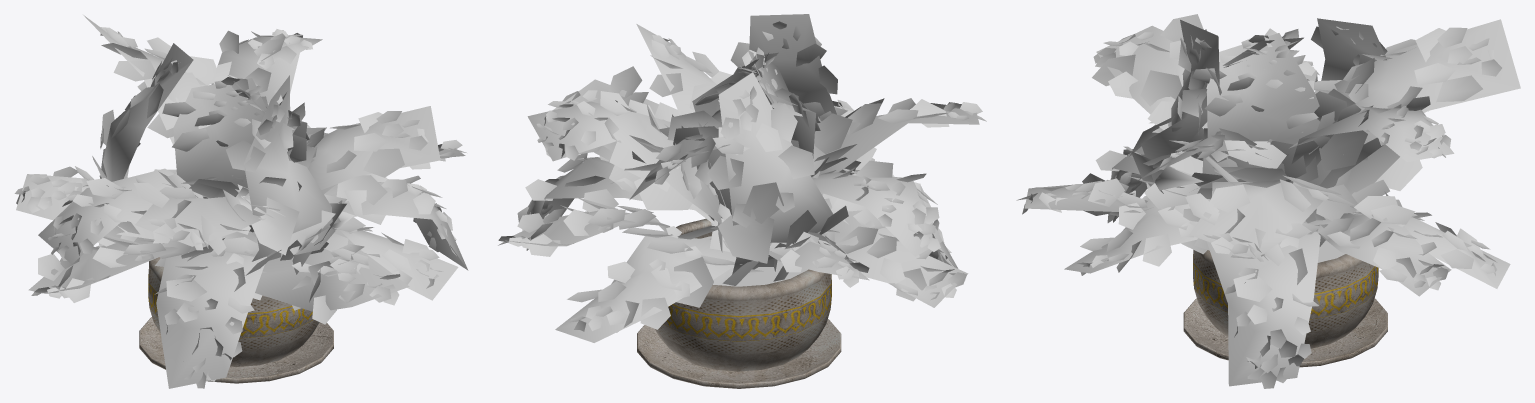
Rendered from SM_PlantF.FBX.
3 renders of one model, left to right at view 1: azimuth 30°, elevation 25°; view 2: azimuth 150°, elevation 25°; view 3: azimuth 270°, elevation 25°, orthographic. The views are drawn at different scales.
Parts seen in each view (by area): view 1: SM_PlantF_LOD0; view 2: SM_PlantF_LOD0; view 3: SM_PlantF_LOD0.
Boxes of the visible parts, x1,y1,x2,y2 form: SM_PlantF_LOD0: (14, 15, 468, 388); SM_PlantF_LOD0: (498, 14, 986, 388); SM_PlantF_LOD0: (1016, 14, 1520, 388).
Size of what is drawn, in the model's own units: 92.13 by 61.98 by 91.45.
